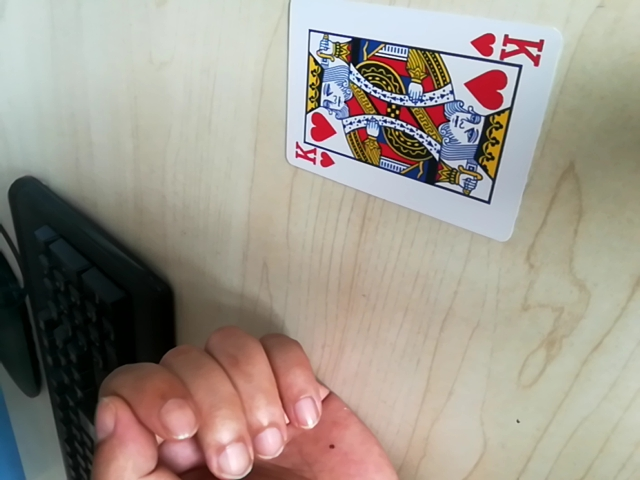hx k: (472, 26, 549, 68), (290, 144, 338, 172)
